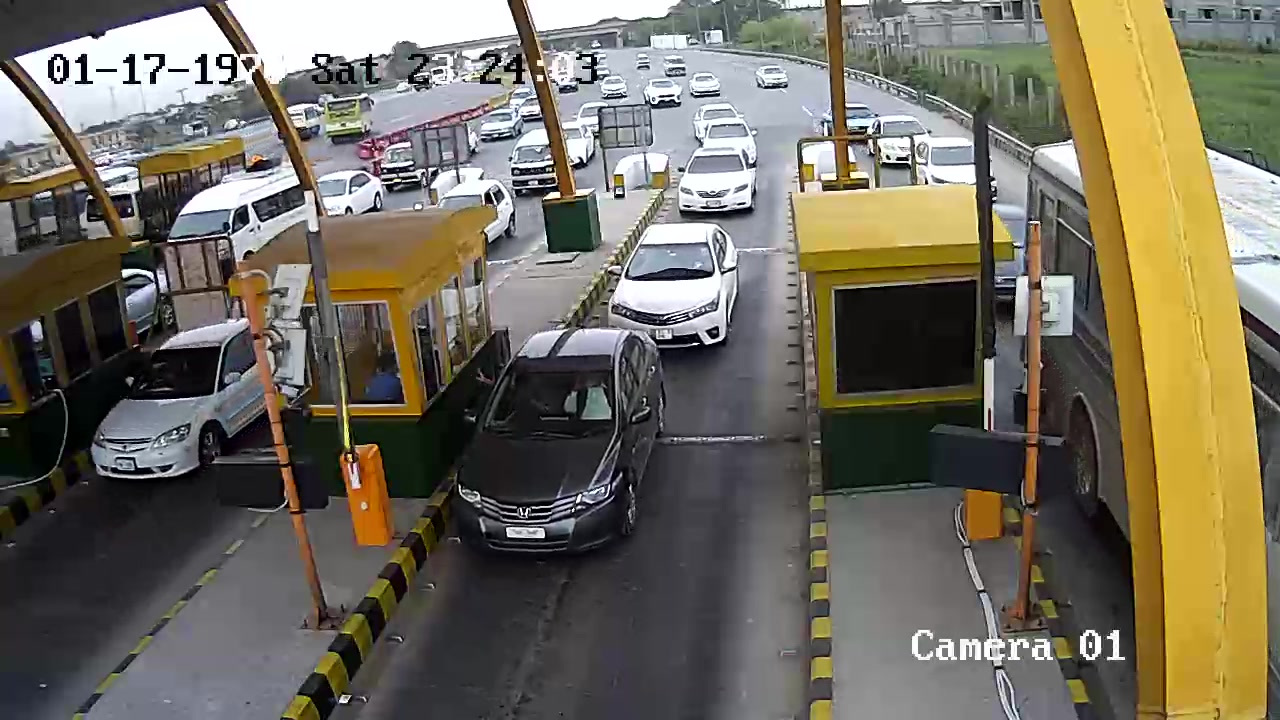F1: (442, 327, 666, 578), (613, 225, 742, 346)
